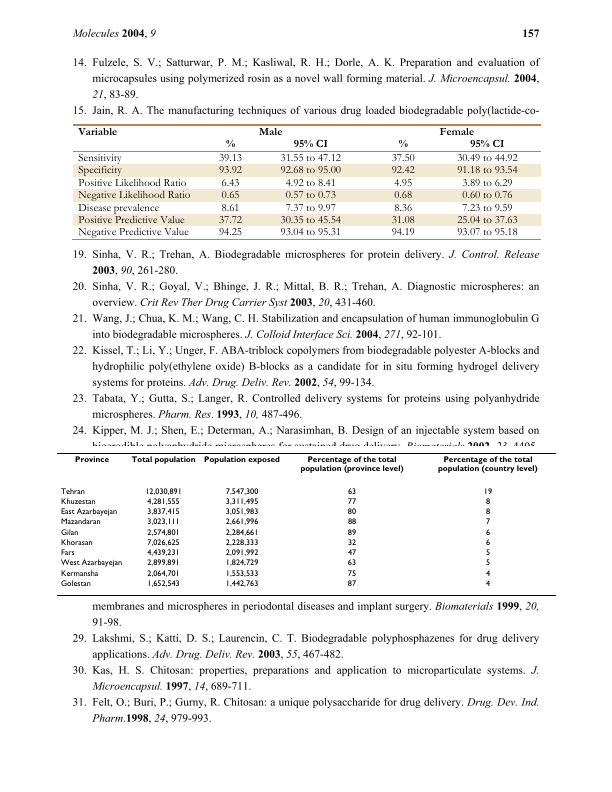borderless: (56, 451, 556, 595), (73, 122, 541, 239)
cell: (299, 456, 404, 474), (437, 456, 538, 474), (77, 190, 191, 202), (77, 227, 189, 239), (77, 177, 187, 189), (77, 215, 185, 227), (77, 202, 159, 214), (279, 153, 341, 165), (456, 153, 518, 165), (279, 165, 341, 177), (456, 165, 518, 177), (279, 215, 341, 227), (456, 215, 518, 227), (279, 227, 341, 239), (456, 227, 518, 239), (203, 456, 280, 465), (284, 177, 336, 189), (461, 177, 513, 189), (284, 190, 336, 202), (461, 190, 513, 202), (284, 202, 336, 214), (461, 202, 513, 214), (130, 456, 196, 465), (59, 559, 123, 568), (77, 153, 122, 165), (77, 165, 122, 177), (59, 508, 118, 517), (77, 126, 118, 136), (59, 569, 99, 579), (144, 487, 182, 497), (59, 518, 101, 527), (59, 497, 96, 507), (438, 126, 474, 136), (224, 487, 259, 497), (224, 497, 259, 507), (224, 528, 259, 538), (224, 538, 259, 548), (224, 569, 259, 579), (224, 579, 259, 589), (146, 497, 180, 507), (146, 528, 180, 538), (59, 538, 93, 548), (146, 538, 180, 548), (146, 569, 180, 579), (146, 579, 180, 589), (292, 139, 328, 148), (469, 139, 505, 148), (59, 579, 91, 589), (74, 456, 109, 465), (224, 508, 259, 517), (224, 518, 259, 527), (224, 549, 259, 558), (224, 559, 259, 568), (146, 508, 180, 517), (146, 518, 180, 527), (146, 549, 180, 558), (146, 559, 180, 568), (217, 153, 242, 165), (390, 153, 415, 165), (217, 165, 242, 177), (390, 165, 415, 177), (217, 215, 242, 227), (390, 215, 415, 227), (217, 227, 242, 239), (390, 227, 415, 239), (59, 487, 85, 497), (257, 126, 283, 136), (220, 177, 240, 189), (220, 190, 240, 202), (220, 202, 240, 214), (393, 177, 412, 189), (393, 190, 412, 202), (393, 202, 412, 214), (59, 528, 79, 538), (59, 549, 75, 558), (346, 487, 357, 497), (482, 487, 493, 497), (346, 497, 357, 507), (346, 528, 357, 538), (346, 538, 357, 548), (346, 569, 357, 579), (346, 579, 357, 589), (346, 508, 357, 517), (346, 518, 357, 527), (346, 549, 357, 558), (346, 559, 357, 568), (224, 139, 235, 148), (397, 139, 408, 148), (484, 538, 491, 548), (484, 579, 491, 589), (484, 508, 491, 517), (484, 518, 491, 527), (484, 549, 491, 558), (484, 559, 491, 568), (484, 497, 490, 507), (484, 528, 490, 538), (484, 569, 490, 579)
